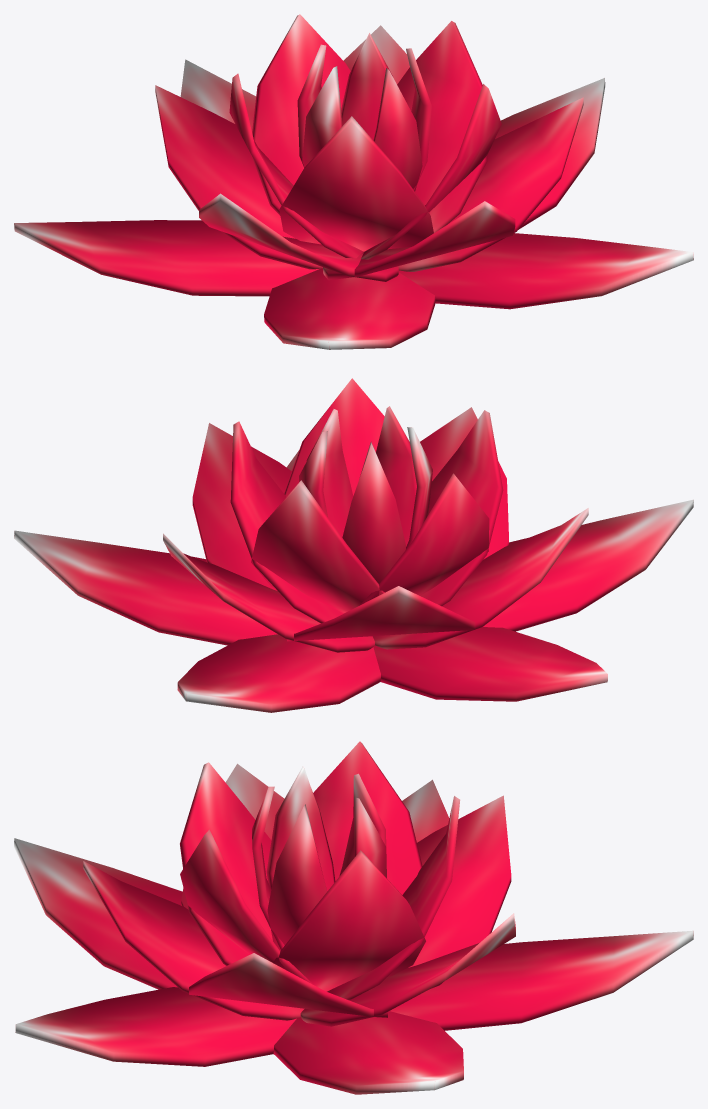
The model's file is Flower.glb.
The picture shows the model from 3 angles, top to bottom: view 1: azimuth 30°, elevation 25°; view 2: azimuth 150°, elevation 25°; view 3: azimuth 270°, elevation 25°; orthographic projection. The views are drawn at different scales.
Visible parts, largest first — view 1: Plane.008, Plane.007, Plane.006, Plane.003; view 2: Plane.008, Plane.007, Plane.006, Plane.003; view 3: Plane.008, Plane.007, Plane.006, Plane.003.
Boxes of the visible parts, x1=… form: Plane.008: x1=14, y1=59, x2=693, y2=349; Plane.007: x1=229, y1=14, x2=501, y2=259; Plane.006: x1=155, y1=25, x2=583, y2=281; Plane.003: x1=297, y1=33, x2=431, y2=191; Plane.008: x1=14, y1=450, x2=693, y2=712; Plane.007: x1=230, y1=378, x2=503, y2=623; Plane.006: x1=163, y1=407, x2=588, y2=652; Plane.003: x1=299, y1=406, x2=432, y2=583; Plane.008: x1=14, y1=779, x2=693, y2=1094; Plane.007: x1=180, y1=741, x2=460, y2=999; Plane.006: x1=83, y1=763, x2=515, y2=1026; Plane.003: x1=252, y1=766, x2=386, y2=950.
Bounding box in the file's own units: 1.22 × 0.4041 × 1.16.
1 material, 1 textured.
